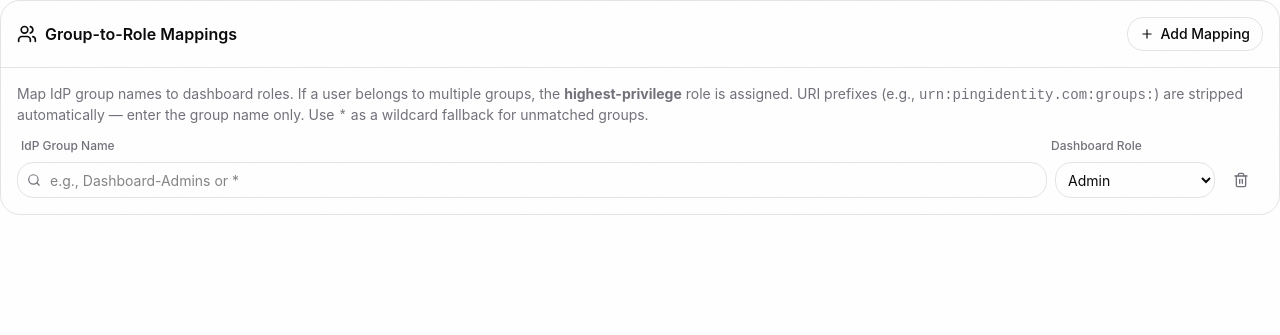
it: GroupRoleMappingEditor › renders discovered groups with user count and last-seen metadata
The width and height of the screenshot is (1280, 335).
Step 1. Focus the dropdown with test id "mapping-group-0" → (532, 180), box x1=17 y1=162 x2=1047 y2=198
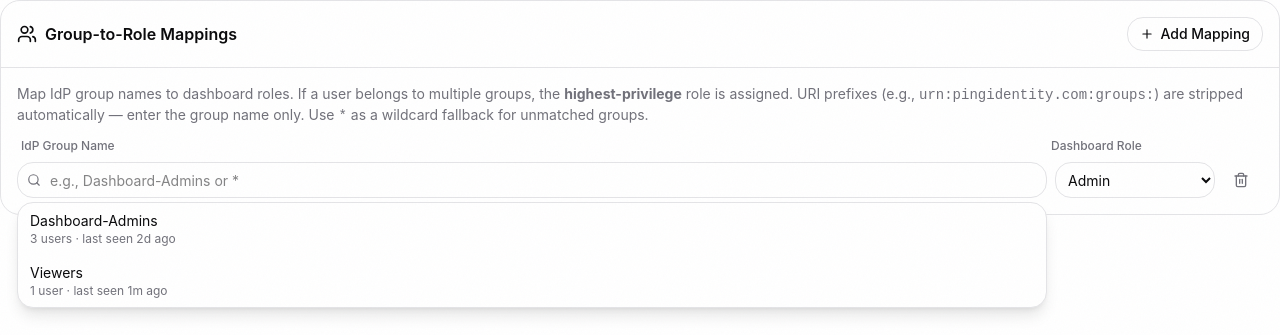
Result: the text "Dashboard-Admins" is shown at x1=30 y1=212 x2=158 y2=229
Result: the text "3 users · last seen 2d ago" is shown at x1=30 y1=231 x2=176 y2=246
Result: the text "Viewers" is shown at x1=30 y1=264 x2=83 y2=281
